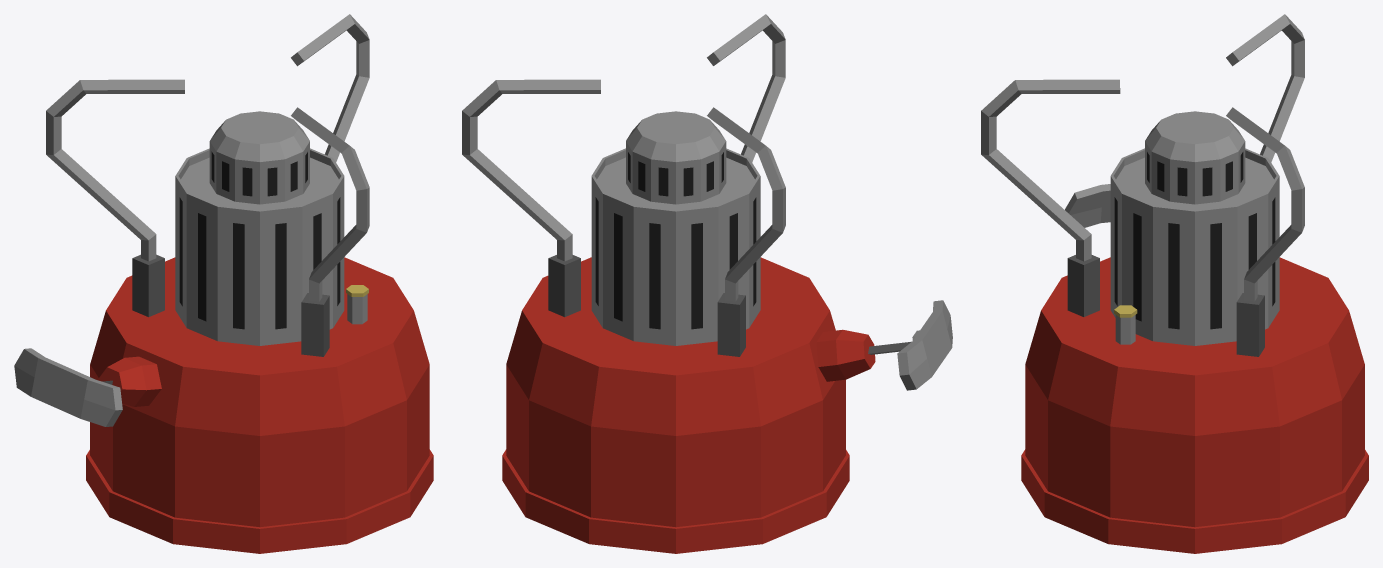
Rendered from Primus_vc.fbx.
The picture shows the model from 3 angles, left to right: view 1: azimuth 30°, elevation 25°; view 2: azimuth 150°, elevation 25°; view 3: azimuth 270°, elevation 25°; orthographic projection.
Visible parts, largest first — view 1: Primus_vc; view 2: Primus_vc; view 3: Primus_vc.
Boxes of the visible parts, x1,y1,x2,y2 form: Primus_vc: [14, 14, 433, 553]; Primus_vc: [462, 14, 952, 553]; Primus_vc: [981, 14, 1368, 553].
Size of the model in its own units: 18.32 by 17.41 by 15.27.
